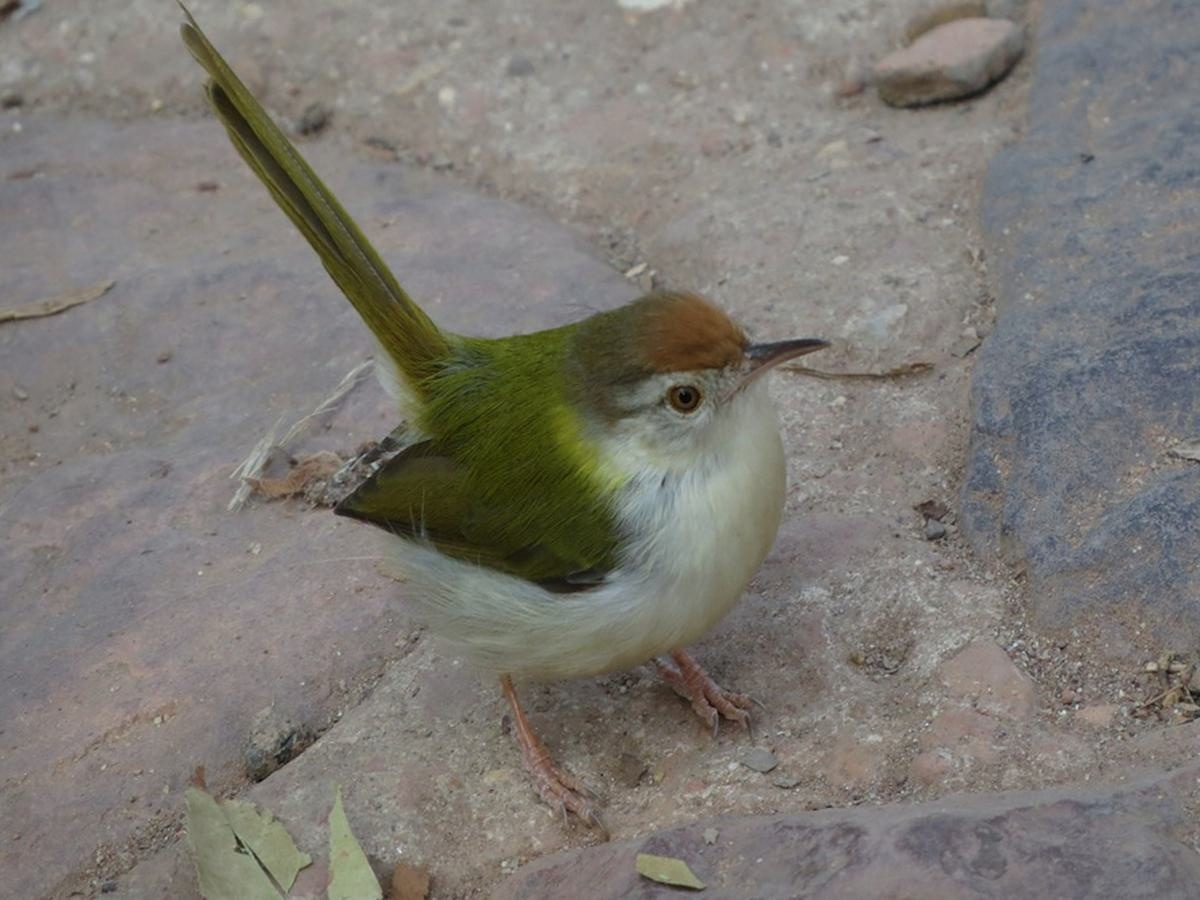tailorbird: (216, 87, 830, 762)
